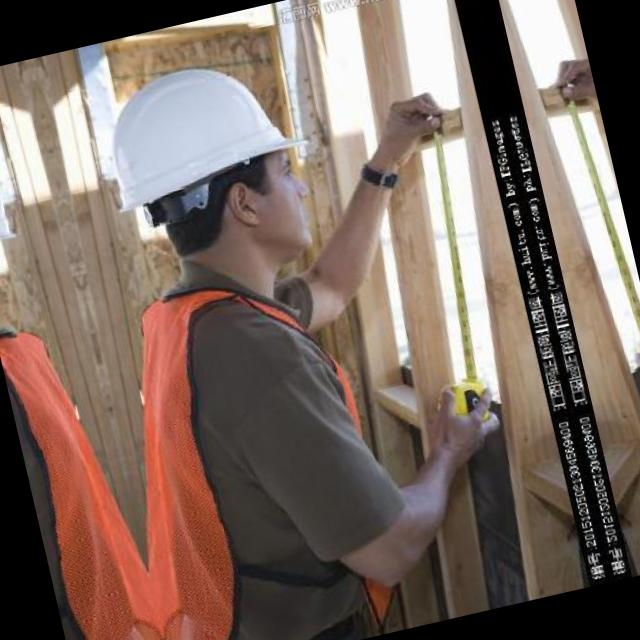helmet: (85, 41, 334, 312), (0, 108, 44, 345)
